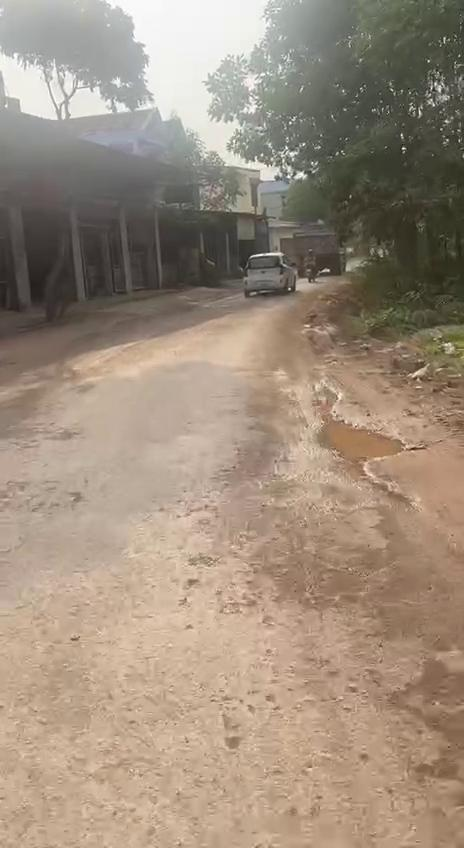pothole: (311, 387, 414, 504)
